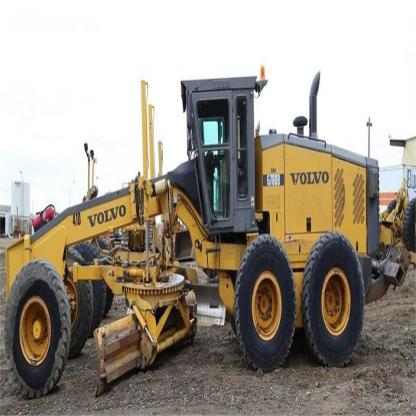bull_dozer/loader/grader: (6, 43, 394, 408)
